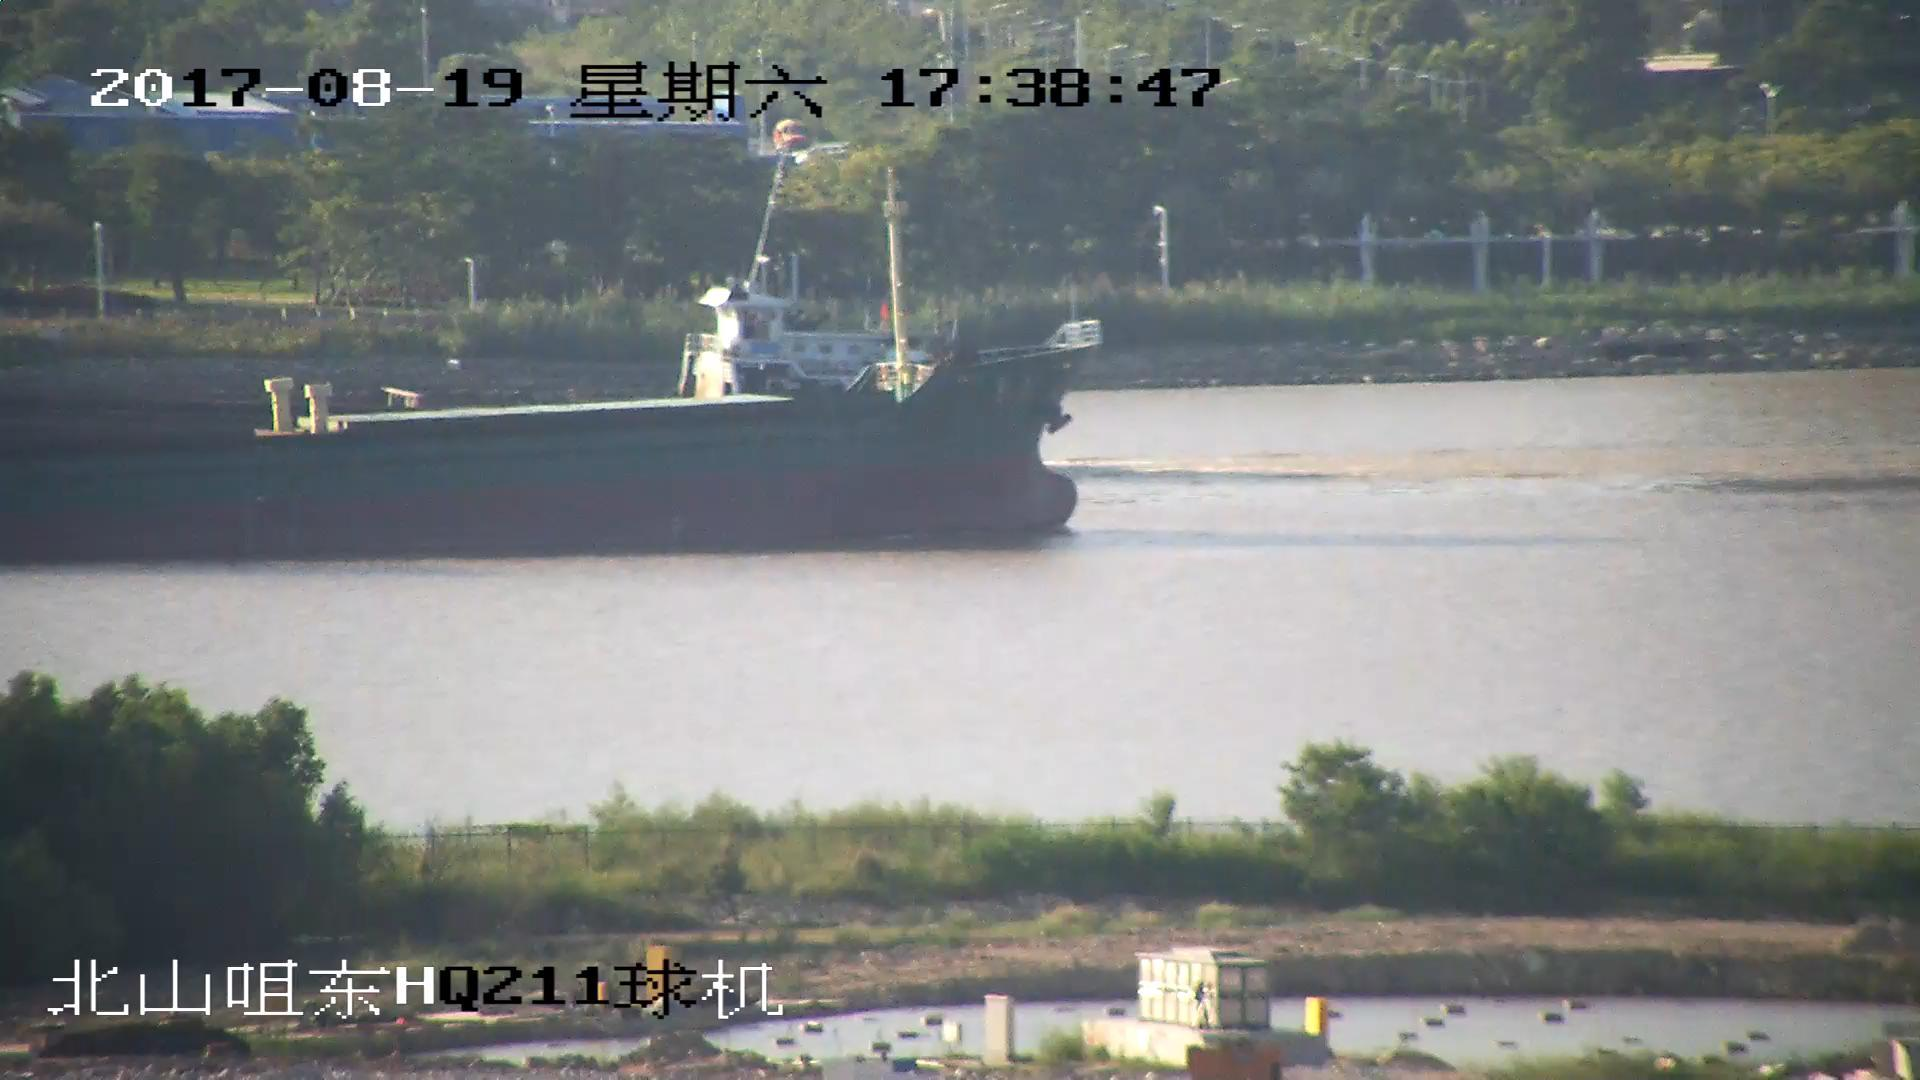Ship: (3, 311, 1091, 549)
